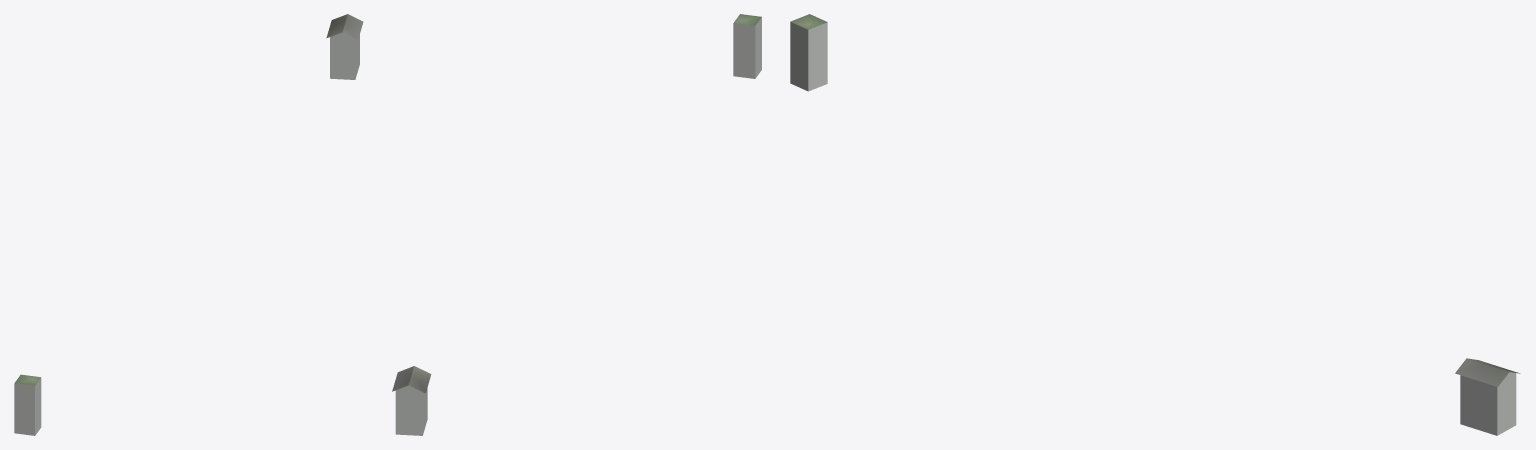
Rendered from LSGG_-1_0.glb.
3 renders of one model, left to right at view 1: azimuth 30°, elevation 25°; view 2: azimuth 210°, elevation 25°; view 3: azimuth 270°, elevation 25°, orthographic. The views are drawn at different scales.
Visible parts, largest first — view 1: building_8ebfa6886b17592b, building_5fb14d0d18a18c7e; view 2: building_8ebfa6886b17592b, building_5fb14d0d18a18c7e; view 3: building_8ebfa6886b17592b, building_5fb14d0d18a18c7e.
Part boxes in pixels (bbox=[...]): building_8ebfa6886b17592b: bbox=[14, 32, 359, 435]; building_5fb14d0d18a18c7e: bbox=[15, 14, 363, 385]; building_8ebfa6886b17592b: bbox=[395, 17, 761, 435]; building_5fb14d0d18a18c7e: bbox=[392, 14, 761, 393]; building_8ebfa6886b17592b: bbox=[790, 22, 1516, 435]; building_5fb14d0d18a18c7e: bbox=[790, 14, 1520, 386].
Size of what is drawn, in the model's own units: 113 by 10.46 by 92.51.
Materials: 2 (1 with a texture image).
